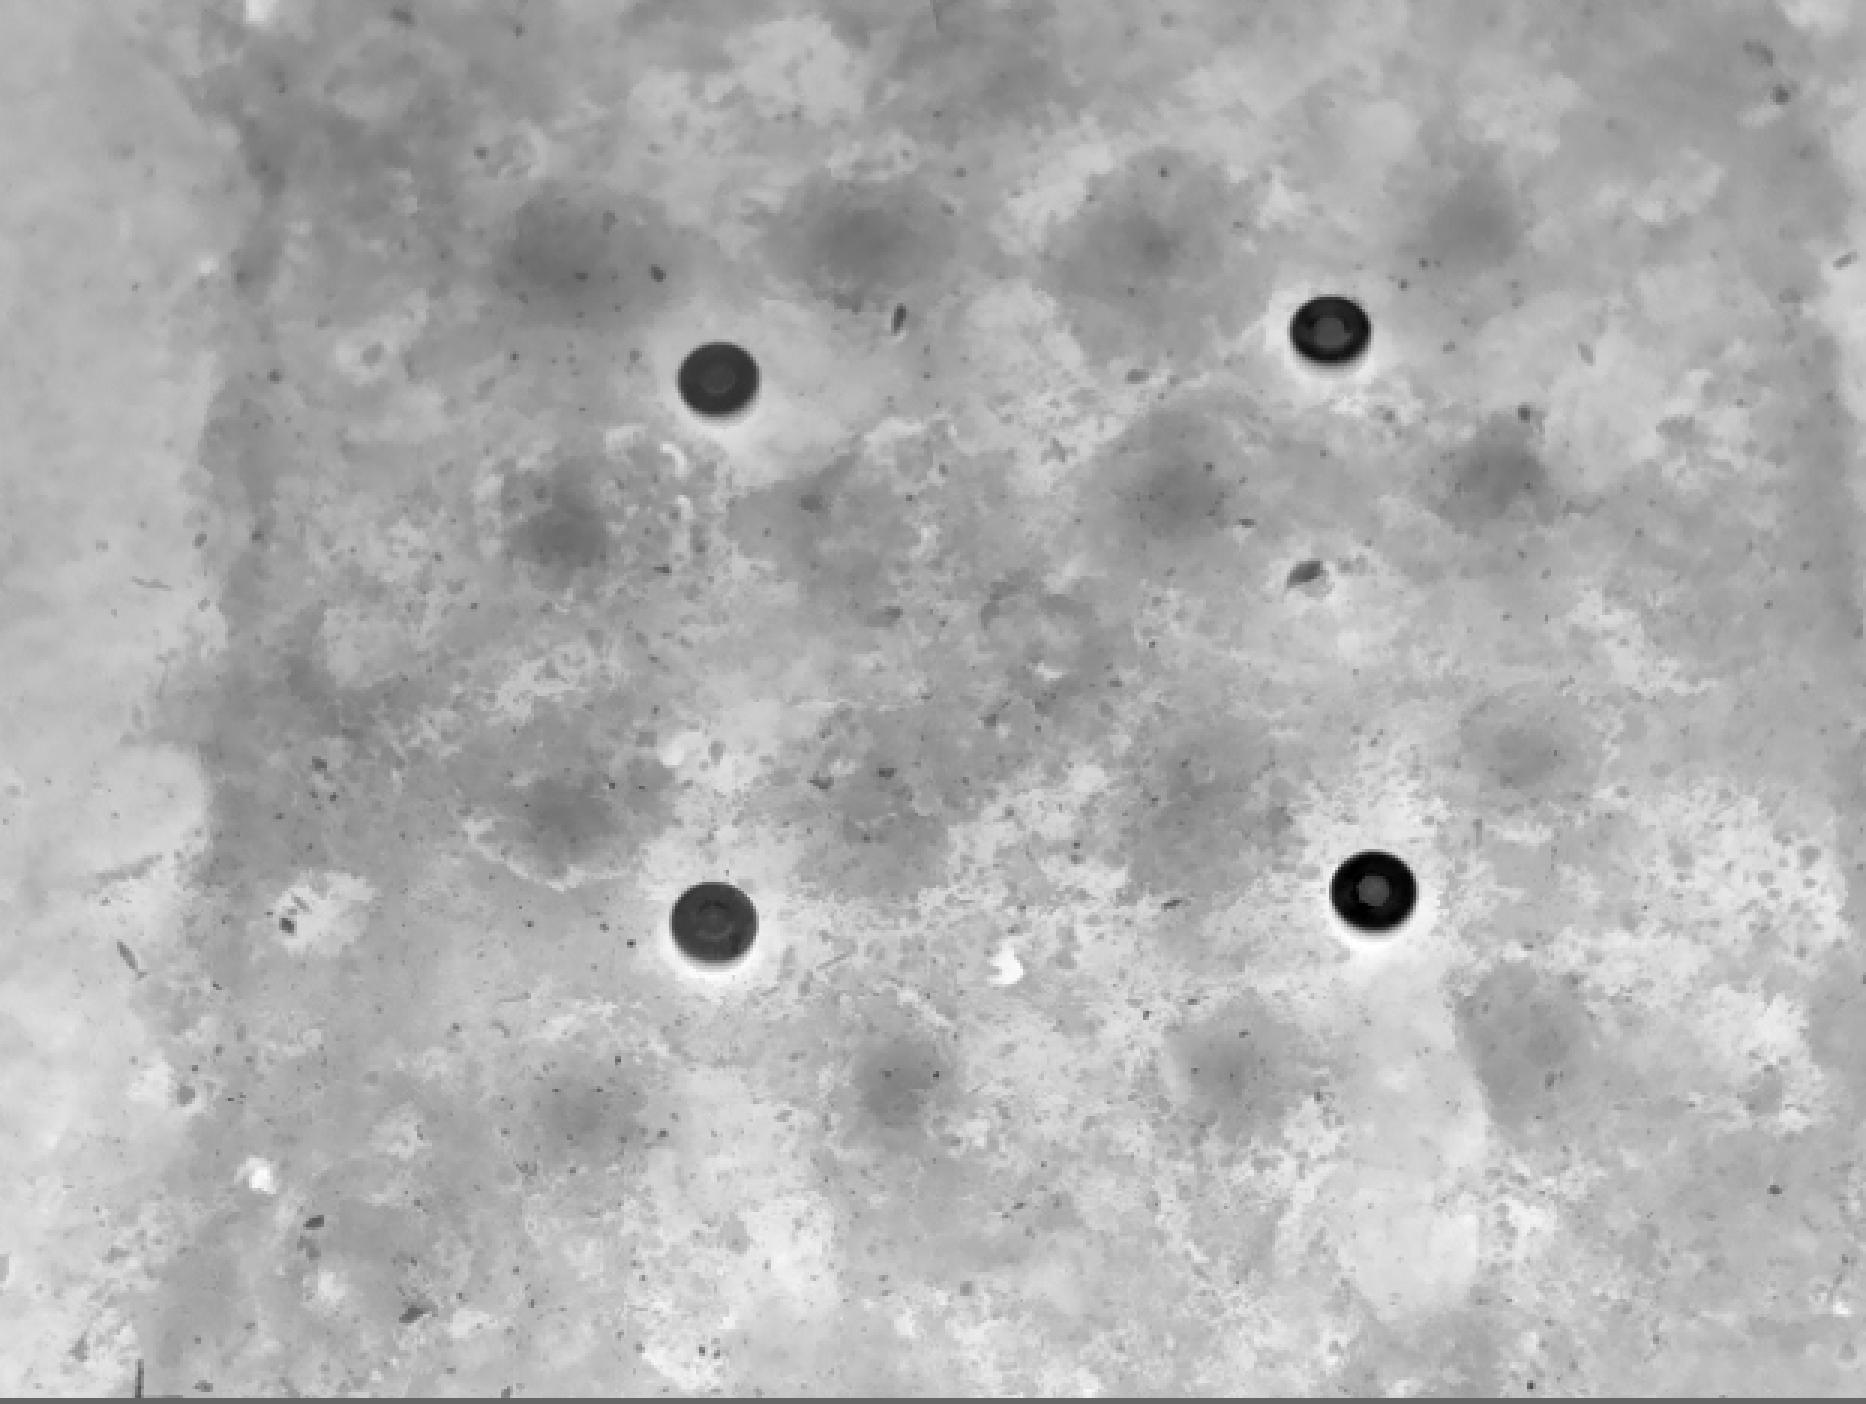mines-gjV8: (658, 848, 763, 962), (1285, 274, 1384, 376), (668, 342, 766, 429), (1331, 855, 1429, 941)
